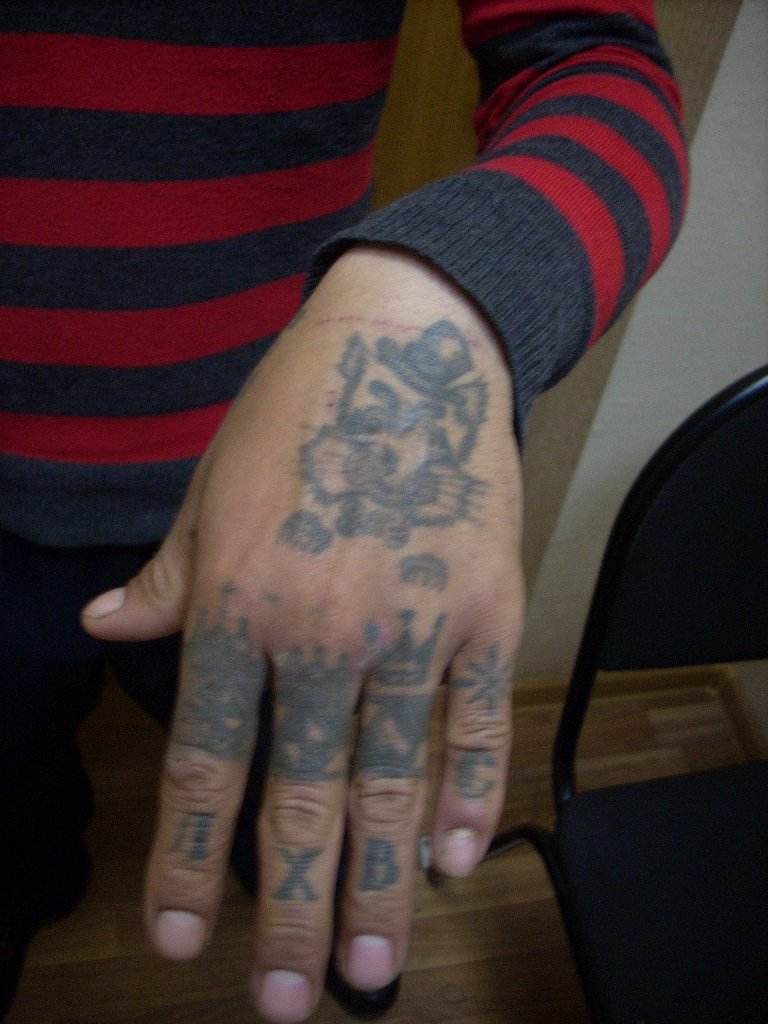tatu3_bukva: (264, 835, 334, 907), (156, 803, 231, 867), (444, 741, 508, 811), (354, 833, 404, 897)
tatu4_zvezda: (456, 644, 523, 711)
tatu8_kot: (283, 303, 500, 588)
